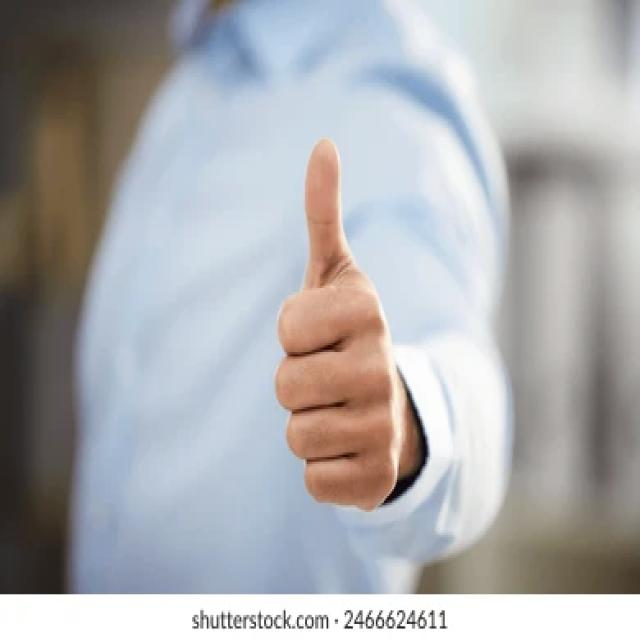hand thumb up: (268, 135, 407, 508)
